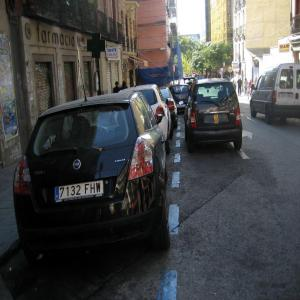Vehicle-registration-plate: (56, 181, 104, 202)
